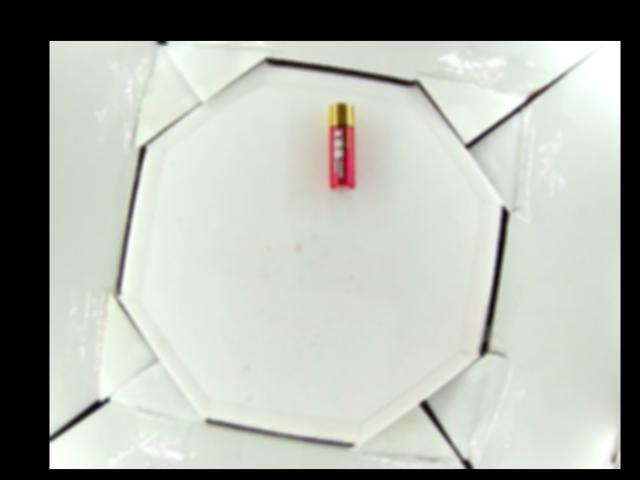Battery: (330, 101, 355, 190)
